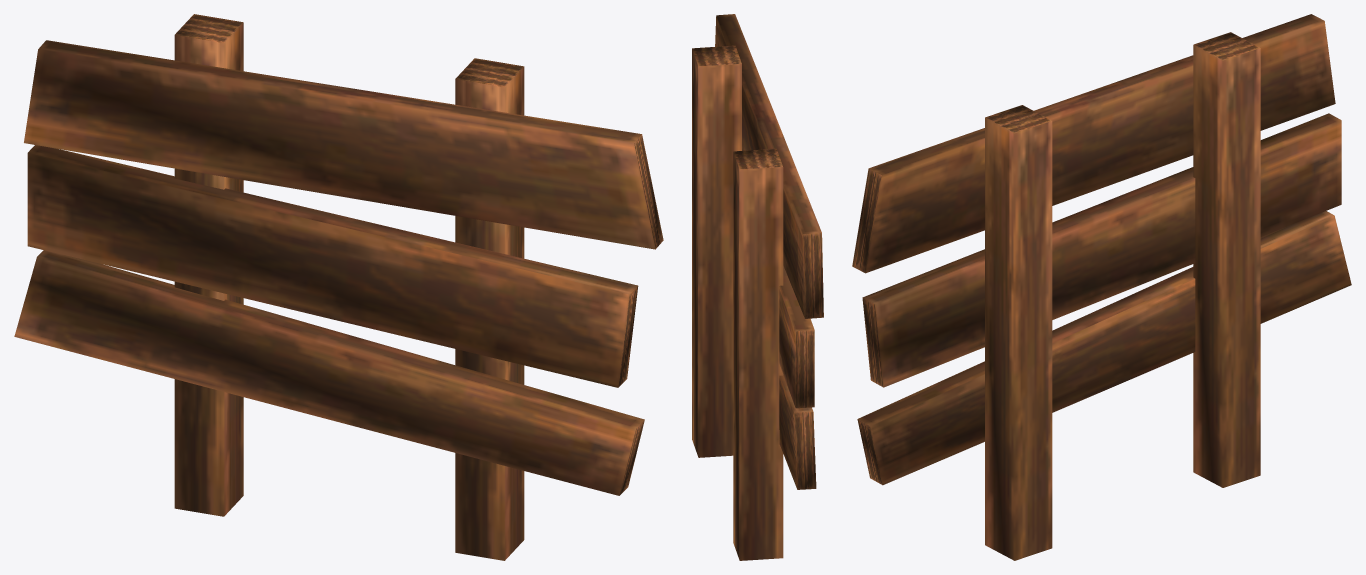
Rendered from SWORDLIGHT20_MAINCAVTRACKENDBOARD.fbx.
3 views of the same model, side by side, from view 1: azimuth 30°, elevation 25°; view 2: azimuth 150°, elevation 25°; view 3: azimuth 270°, elevation 25° (orthographic). The views are drawn at different scales.
Parts seen in each view (by area): view 1: SWORDLIGHT20_MAINCAVTRACKENDBOARD; view 2: SWORDLIGHT20_MAINCAVTRACKENDBOARD; view 3: SWORDLIGHT20_MAINCAVTRACKENDBOARD.
Boxes of the visible parts, x1,y1,x2,y2 form: SWORDLIGHT20_MAINCAVTRACKENDBOARD: (14,14,663,560); SWORDLIGHT20_MAINCAVTRACKENDBOARD: (692,14,823,560); SWORDLIGHT20_MAINCAVTRACKENDBOARD: (852,14,1351,560).
Bounding box in the file's own units: 14703 × 17195 × 18208.
2 materials, 2 textured.
